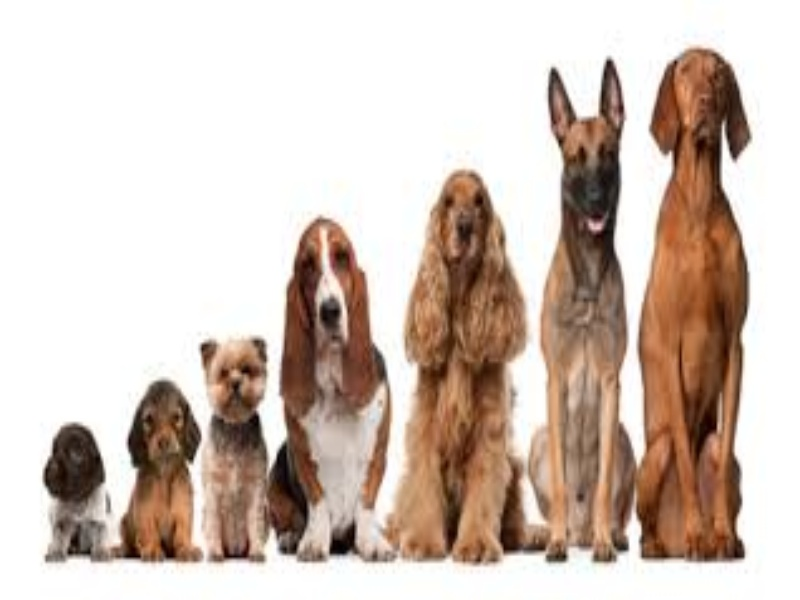dog: (528, 56, 645, 587), (643, 44, 752, 575), (393, 168, 531, 570), (273, 216, 398, 572), (195, 336, 274, 571), (119, 379, 209, 559), (36, 418, 123, 568)
